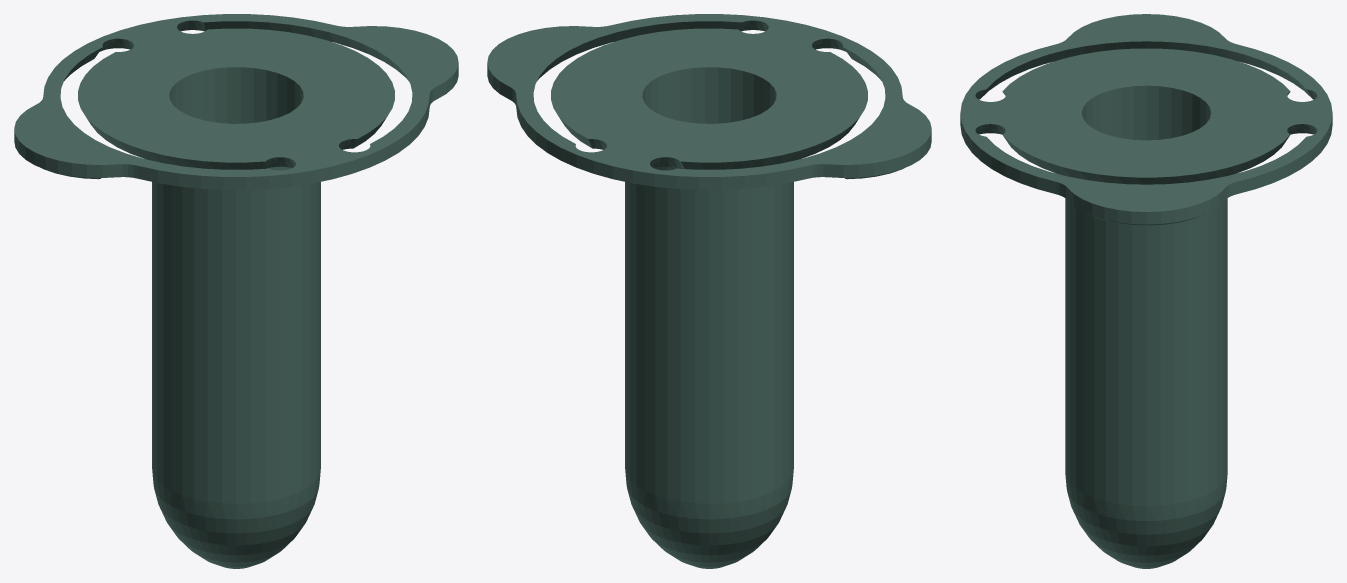
File: SRQCMPCR.glb
3 views of the same model, side by side, from view 1: azimuth 30°, elevation 25°; view 2: azimuth 150°, elevation 25°; view 3: azimuth 270°, elevation 25° (orthographic). The views are drawn at different scales.
Visible parts, largest first — view 1: 20749934; view 2: 20749934; view 3: 20749934.
Part boxes in pixels (x1,y1,x2,y2): 20749934: [14, 14, 458, 568]; 20749934: [487, 14, 931, 568]; 20749934: [960, 14, 1332, 568].
Size of the model in its own units: 0.9497 by 1 by 0.7542.
